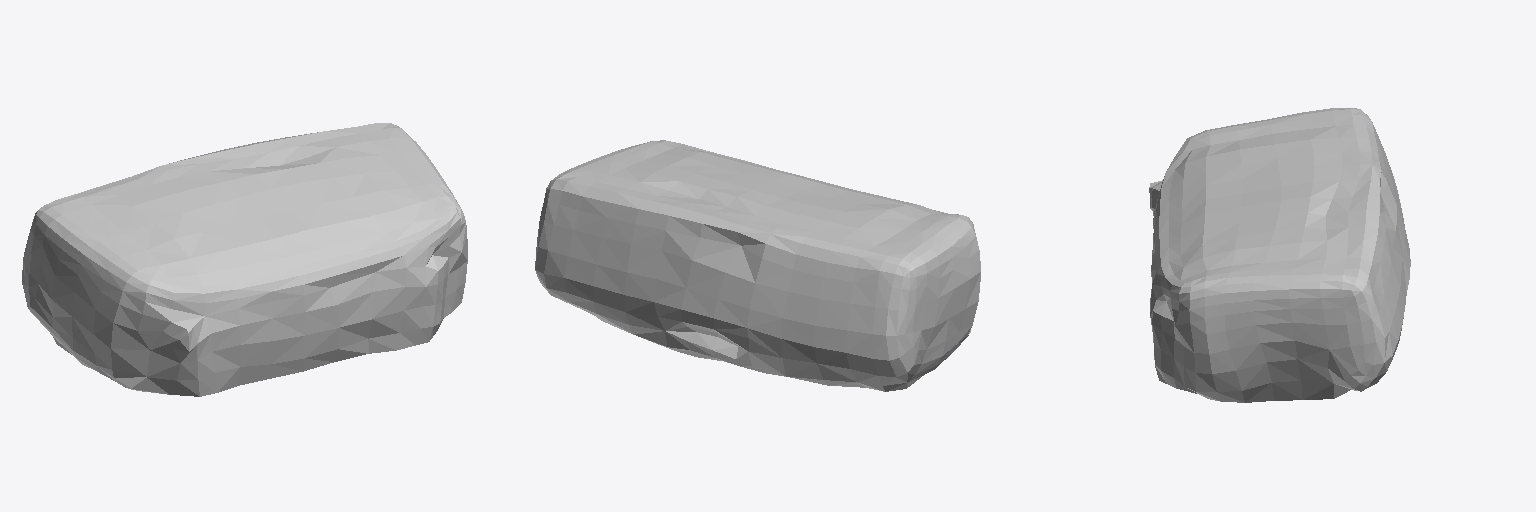
The model's file is SonyRadio.obj.
The picture shows the model from 3 angles: view 1: azimuth 30°, elevation 25°; view 2: azimuth 150°, elevation 25°; view 3: azimuth 270°, elevation 25°; orthographic projection.
Parts seen in each view (by area): view 1: SonyRadio; view 2: SonyRadio; view 3: SonyRadio.
Boxes of the visible parts, x1,y1,x2,y2 form: SonyRadio: [22, 123, 467, 396]; SonyRadio: [535, 140, 980, 391]; SonyRadio: [1149, 108, 1410, 402].
Size of the model in its own units: 2.88 by 1.03 by 1.75.